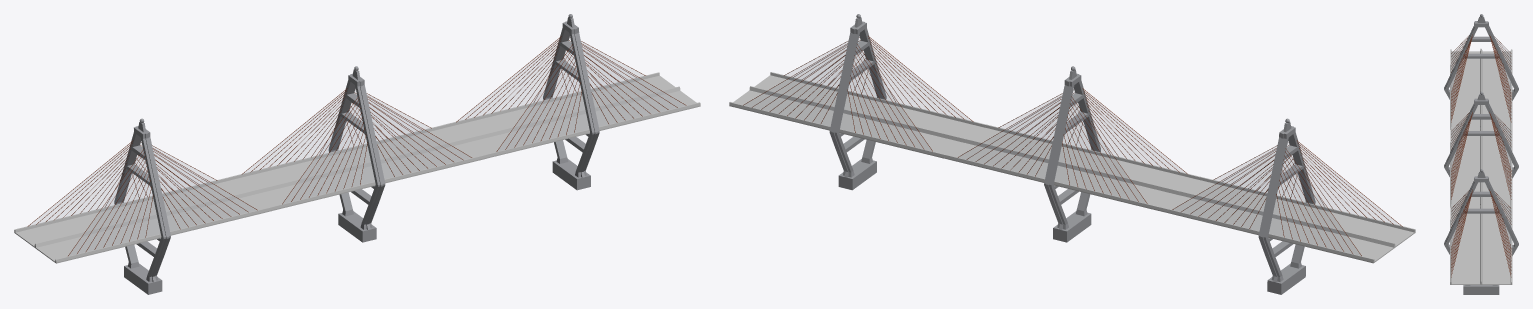
File: bridge.fbx
3 renders of one model, left to right at view 1: azimuth 30°, elevation 25°; view 2: azimuth 150°, elevation 25°; view 3: azimuth 270°, elevation 25°, orthographic. The views are drawn at different scales.
Parts seen in each view (by area): view 1: Road_002, Road_001, Road_000, Line_000, Line_002, Line_001, Support_000, Support_002, Support_001; view 2: Road_001, Road_002, Road_000, Line_000, Line_002, Line_001, Support_002, Support_001, Support_000; view 3: Road_001, Road_000, Road_002, Support_001, Support_002, Line_001, Line_002, Line_000, Support_000.
Boxes of the visible parts, bbox=[...] form: Road_002: bbox=[14, 177, 271, 263]; Road_001: bbox=[443, 72, 700, 158]; Road_000: bbox=[229, 125, 486, 210]; Line_000: bbox=[242, 88, 471, 204]; Line_002: bbox=[27, 140, 257, 255]; Line_001: bbox=[456, 36, 686, 151]; Support_000: bbox=[328, 66, 385, 242]; Support_002: bbox=[114, 118, 170, 294]; Support_001: bbox=[543, 14, 599, 190]; Road_001: bbox=[729, 72, 986, 158]; Road_002: bbox=[1159, 177, 1415, 263]; Road_000: bbox=[945, 124, 1200, 210]; Line_000: bbox=[958, 88, 1187, 203]; Line_002: bbox=[1172, 140, 1402, 255]; Line_001: bbox=[743, 36, 973, 151]; Support_002: bbox=[1258, 118, 1315, 294]; Support_001: bbox=[829, 14, 886, 190]; Support_000: bbox=[1044, 66, 1100, 242]; Road_001: bbox=[1450, 203, 1512, 284]; Road_000: bbox=[1450, 126, 1512, 207]; Road_002: bbox=[1450, 48, 1512, 129]; Support_001: bbox=[1444, 169, 1518, 294]; Support_002: bbox=[1444, 14, 1518, 100]; Line_001: bbox=[1451, 189, 1511, 277]; Line_002: bbox=[1451, 34, 1511, 122]; Line_000: bbox=[1451, 112, 1511, 199]; Support_000: bbox=[1444, 91, 1518, 178].
Bounding box in the file's own units: 36.07 × 8.87 × 4.89.
